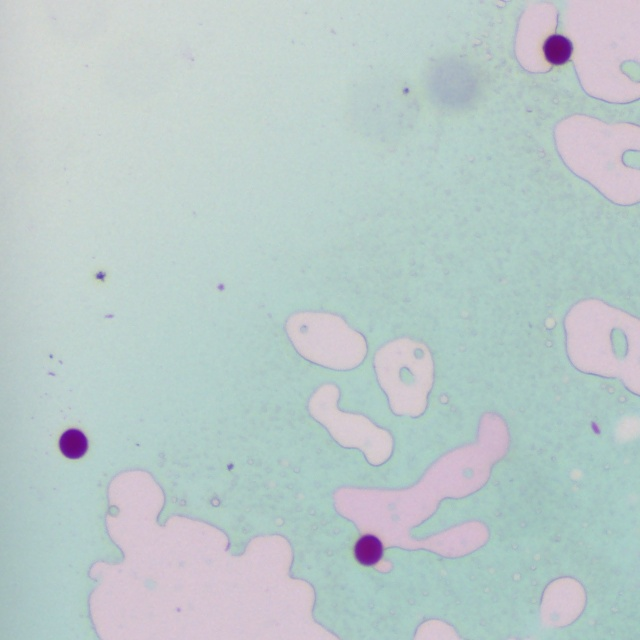viable: (544, 35, 572, 64), (355, 535, 382, 565), (60, 429, 87, 458)
